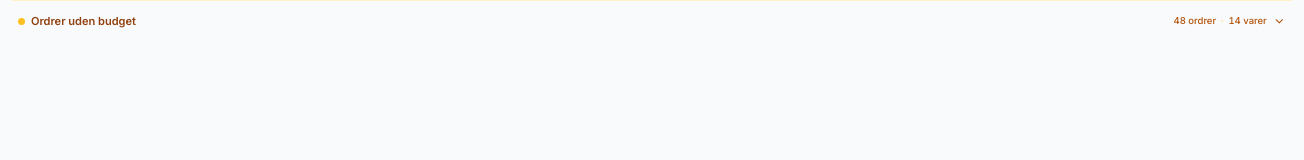
Test: Budget Fokus orders without budget › is collapsed by default and supports whole-row expand/collapse semantics
The image size is (1304, 160).
Check: the text "LOOSE_TOOL" is not shown
Step 1. Click the button "Ordrer uden budget 48 ordrer·14 varer" → {"x": 83, "y": 21}, box x1=12 y1=7 x2=1292 y2=36
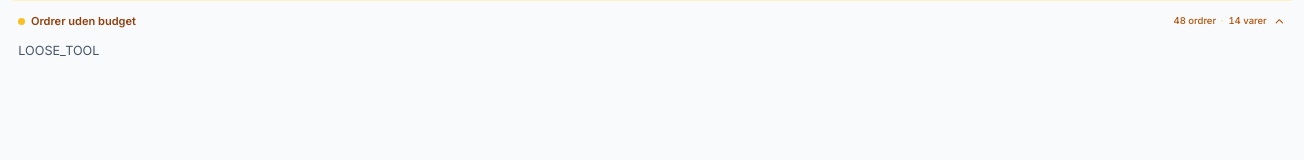
Check: the button "Ordrer uden budget 48 ordrer·14 varer" is expanded
Check: the text "LOOSE_TOOL" is shown, box x1=18 y1=43 x2=99 y2=58
Step 2. Click the button "Ordrer uden budget 48 ordrer·14 varer" → {"x": 83, "y": 21}, box x1=12 y1=7 x2=1292 y2=36
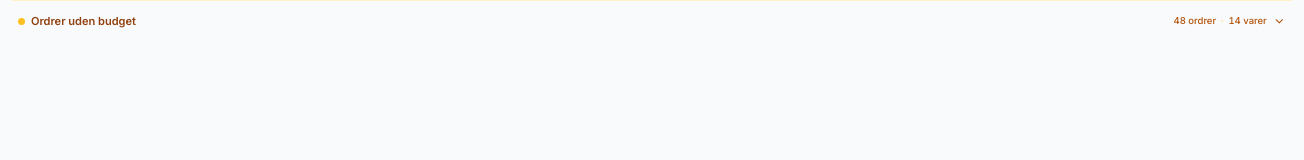
Check: the button "Ordrer uden budget 48 ordrer·14 varer" is collapsed, box x1=12 y1=7 x2=1292 y2=36
Check: the text "LOOSE_TOOL" is gone
